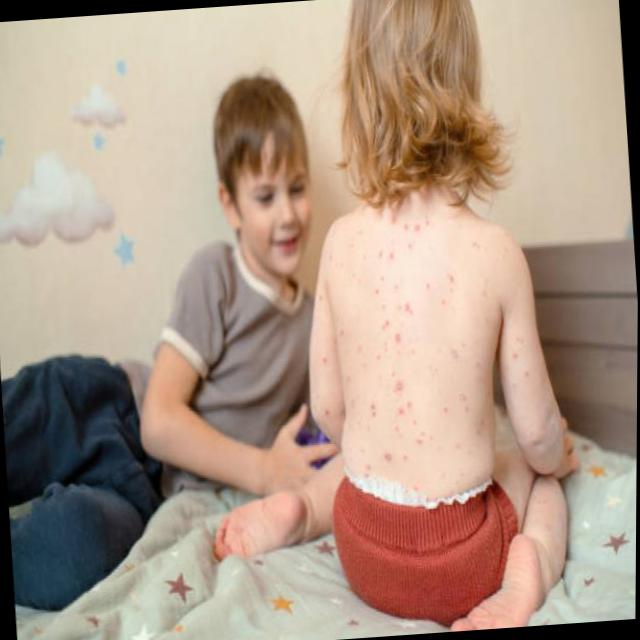no helmet: (335, 0, 518, 209)
